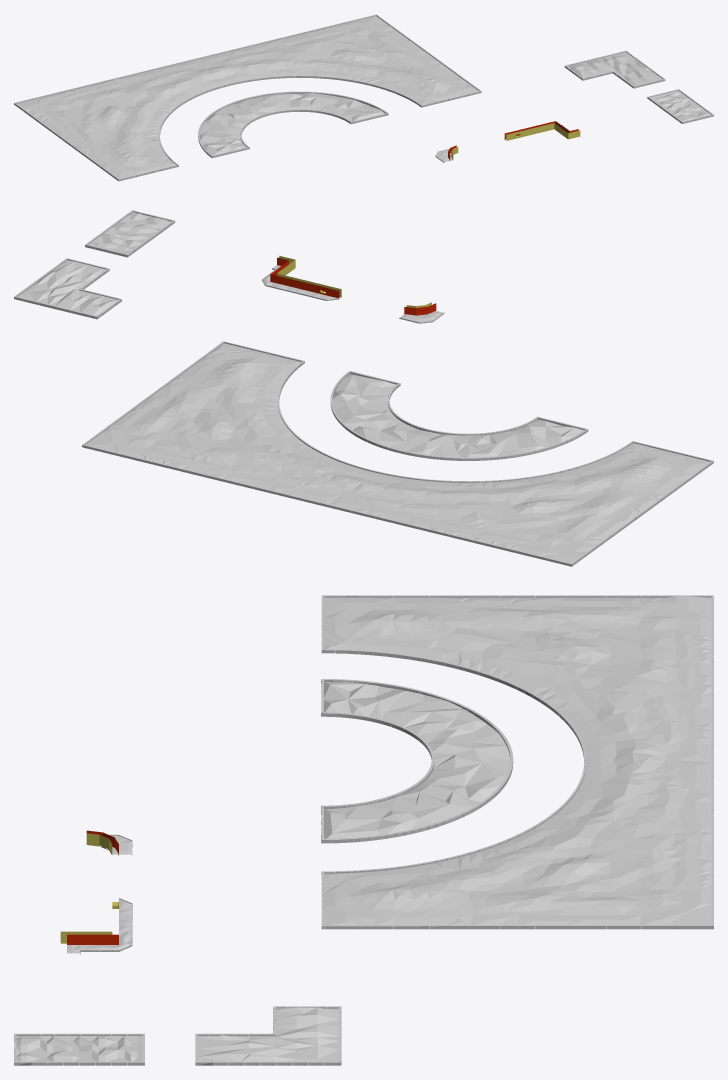
File: un_walls.fbx
3 views of the same model, one above another, from view 1: azimuth 30°, elevation 25°; view 2: azimuth 150°, elevation 25°; view 3: azimuth 270°, elevation 25° (orthographic). The views are drawn at different scales.
Visible parts, largest first — view 1: b6, b7, b8, b9; view 2: b6, b7, b8, b9; view 3: b6, b7, b8, b9.
Part boxes in pixels (x1=…): b6: x1=14, y1=14, x2=481, y2=181; b7: x1=198, y1=91, x2=388, y2=158; b8: x1=564, y1=50, x2=665, y2=88; b9: x1=647, y1=89, x2=713, y2=123; b6: x1=82, y1=341, x2=713, y2=566; b7: x1=330, y1=371, x2=588, y2=460; b8: x1=14, y1=258, x2=121, y2=319; b9: x1=85, y1=210, x2=175, y2=257; b6: x1=321, y1=595, x2=713, y2=929; b7: x1=321, y1=679, x2=513, y2=843; b8: x1=195, y1=1006, x2=341, y2=1065; b9: x1=14, y1=1033, x2=144, y2=1065.
Bounding box in the file's own units: 85.45 × 1.09 × 54.06.
